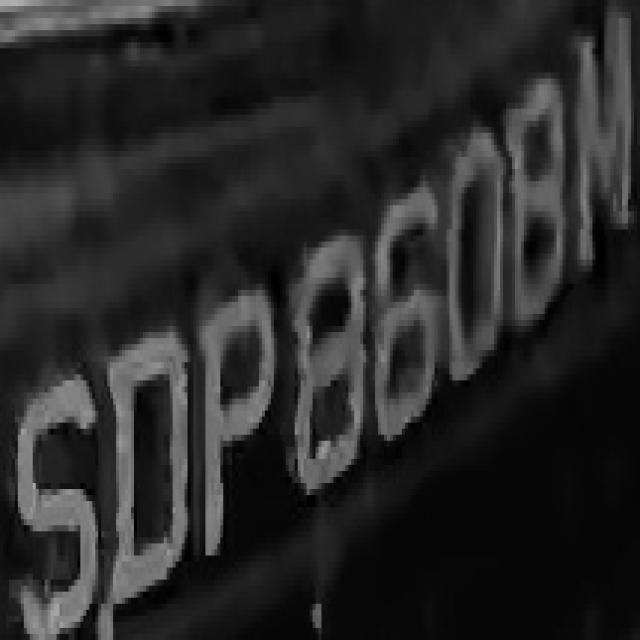0: (438, 109, 512, 398)
6: (369, 157, 447, 459)
8: (286, 205, 375, 501), (500, 79, 572, 344)
D: (101, 290, 194, 616)
M: (568, 0, 640, 265)
P: (193, 254, 286, 562)
S: (12, 356, 104, 616)
